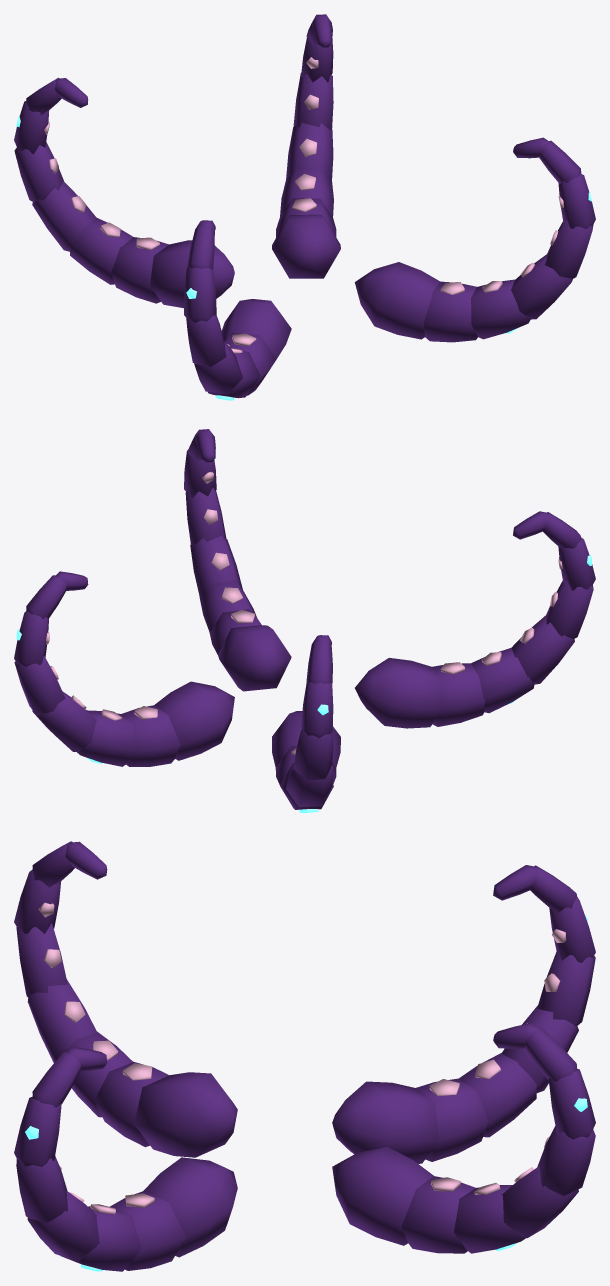
File: pirate_kraken_extras.fbx
3 renders of one model, top to bottom at view 1: azimuth 30°, elevation 25°; view 2: azimuth 150°, elevation 25°; view 3: azimuth 270°, elevation 25°, orthographic. The views are drawn at different scales.
Visible parts, largest first — view 1: Anim_TentaculeArriereGauche_1, Anim_TentaculeAvantGauche_1, Anim_TentaculeAvantDroit_1, Anim_TentaculeArriereGauche_2, Anim_TentaculeArriereGauche_3, Anim_TentaculeArriereDroit_1, Anim_TentaculeAvantDroit_3, Anim_TentaculeAvantDroit_4, Anim_TentaculeAvantDroit_2, Anim_TentaculeArriereGauche_4, Anim_TentaculeAvantGauche_4, Anim_TentaculeAvantDroit_5 (+18 smaller); view 2: Anim_TentaculeArriereDroit_1, Anim_TentaculeAvantGauche_1, Anim_TentaculeArriereGauche_1, Anim_TentaculeArriereDroit_2, Anim_TentaculeAvantGauche_2, Anim_TentaculeArriereDroit_3, Anim_TentaculeArriereDroit_4, Anim_TentaculeAvantGauche_3, Anim_TentaculeArriereGauche_4, Anim_TentaculeAvantGauche_4, Anim_TentaculeAvantGauche_5, Anim_TentaculeArriereDroit_5 (+15 smaller); view 3: Anim_TentaculeArriereDroit_1, Anim_TentaculeAvantDroit_1, Anim_TentaculeAvantGauche_1, Anim_TentaculeArriereGauche_1, Anim_TentaculeAvantGauche_2, Anim_TentaculeAvantDroit_2, Anim_TentaculeAvantDroit_3, Anim_TentaculeArriereGauche_2, Anim_TentaculeAvantGauche_3, Anim_TentaculeArriereDroit_4, Anim_TentaculeArriereDroit_2, Anim_TentaculeAvantGauche_4 (+20 smaller).
Boxes of the visible parts, box(x1,y1,x2,y2) form: Anim_TentaculeArriereGauche_1: box(354, 262, 440, 339); Anim_TentaculeAvantGauche_1: box(272, 214, 340, 278); Anim_TentaculeAvantDroit_1: box(150, 240, 234, 308); Anim_TentaculeArriereGauche_2: box(424, 281, 477, 342); Anim_TentaculeArriereGauche_3: box(471, 279, 530, 339); Anim_TentaculeArriereDroit_1: box(221, 299, 291, 359); Anim_TentaculeAvantDroit_3: box(70, 217, 133, 284); Anim_TentaculeAvantDroit_4: box(32, 181, 96, 251); Anim_TentaculeAvantDroit_2: box(111, 237, 168, 303); Anim_TentaculeArriereGauche_4: box(511, 254, 572, 319); Anim_TentaculeAvantGauche_4: box(286, 122, 333, 181); Anim_TentaculeAvantDroit_5: box(14, 142, 63, 202); Anim_TentaculeArriereDroit_1: box(355, 657, 440, 728); Anim_TentaculeAvantGauche_1: box(154, 681, 234, 760); Anim_TentaculeArriereGauche_1: box(218, 625, 291, 691); Anim_TentaculeArriereDroit_2: box(432, 662, 484, 726); Anim_TentaculeAvantGauche_2: box(121, 705, 180, 766); Anim_TentaculeArriereDroit_3: box(471, 647, 534, 713); Anim_TentaculeArriereDroit_4: box(511, 615, 574, 684); Anim_TentaculeAvantGauche_3: box(77, 709, 136, 766); Anim_TentaculeArriereGauche_4: box(190, 535, 242, 596); Anim_TentaculeAvantGauche_4: box(32, 691, 96, 751); Anim_TentaculeAvantGauche_5: box(14, 656, 65, 715); Anim_TentaculeArriereDroit_5: box(546, 580, 593, 638); Anim_TentaculeArriereDroit_1: box(134, 1072, 237, 1157); Anim_TentaculeAvantDroit_1: box(332, 1081, 438, 1163); Anim_TentaculeAvantGauche_1: box(332, 1146, 433, 1245); Anim_TentaculeArriereGauche_1: box(143, 1157, 237, 1257); Anim_TentaculeAvantGauche_2: box(401, 1176, 475, 1253); Anim_TentaculeAvantDroit_2: box(416, 1078, 488, 1161); Anim_TentaculeAvantDroit_3: box(458, 1053, 536, 1137); Anim_TentaculeArriereGauche_2: box(109, 1191, 185, 1270); Anim_TentaculeAvantGauche_3: box(454, 1183, 525, 1253); Anim_TentaculeArriereDroit_4: box(27, 979, 97, 1062); Anim_TentaculeArriereDroit_2: box(94, 1061, 168, 1147); Anim_TentaculeAvantGauche_4: box(501, 1166, 578, 1238).
Size of the model in its own units: 1.5 by 0.7097 by 1.48.
